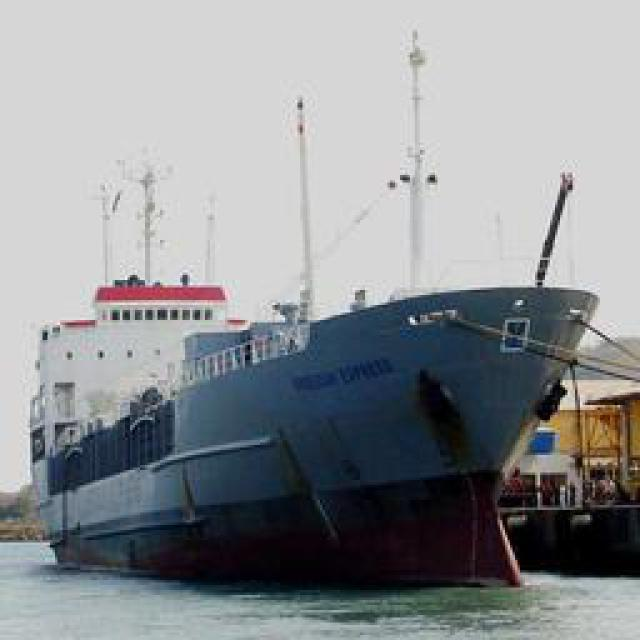Ship: (40, 271, 628, 581)
